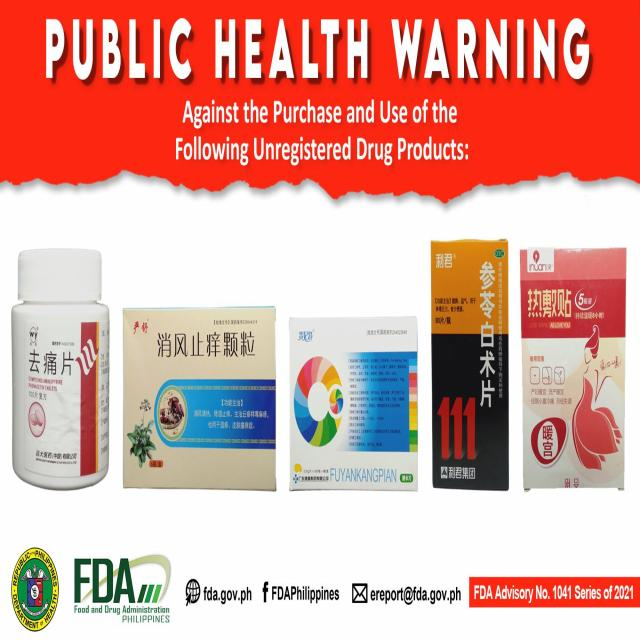counterfeit: (120, 300, 280, 492), (8, 239, 112, 496), (286, 310, 420, 497), (428, 232, 514, 501)
